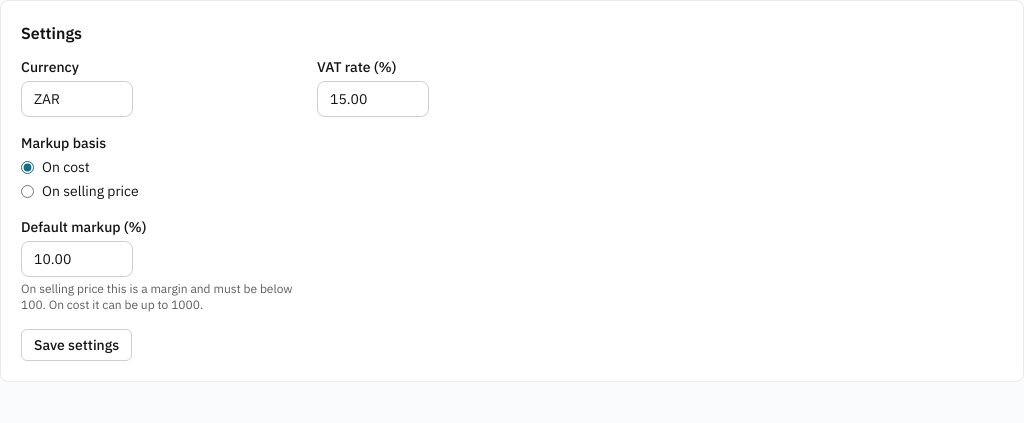
SettingsCard › sends nothing when VAT rate (%) is 101
Replace the text in the field labelled "VAT rate (%)" with "101". click: (373, 99)
box: x1=317 y1=81 x2=429 y2=117
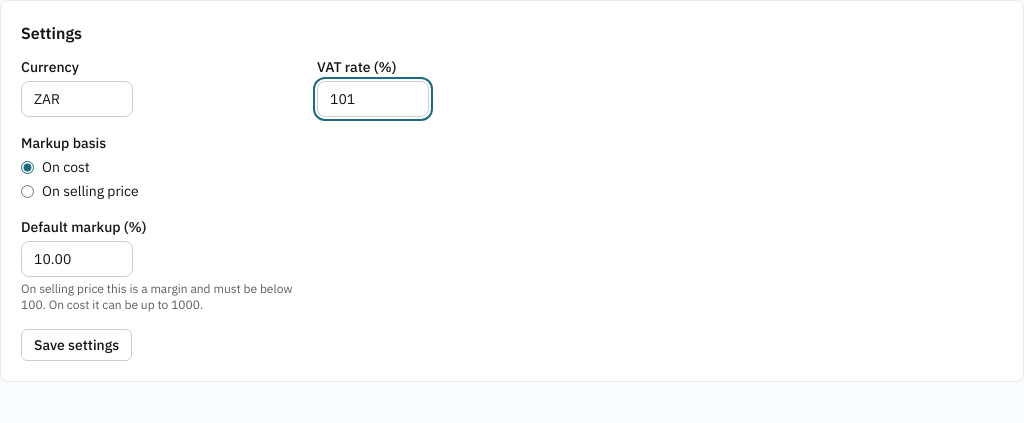
Click the button "Save settings". click: (77, 345)
box: x1=21 y1=329 x2=132 y2=361
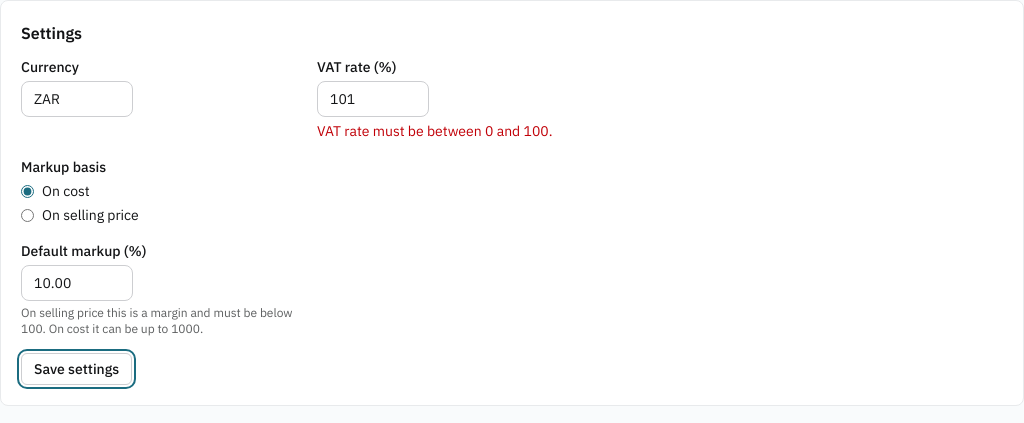
Expected: the text "VAT rate must be between 0 and 100." is shown, x1=317 y1=122 x2=553 y2=140
